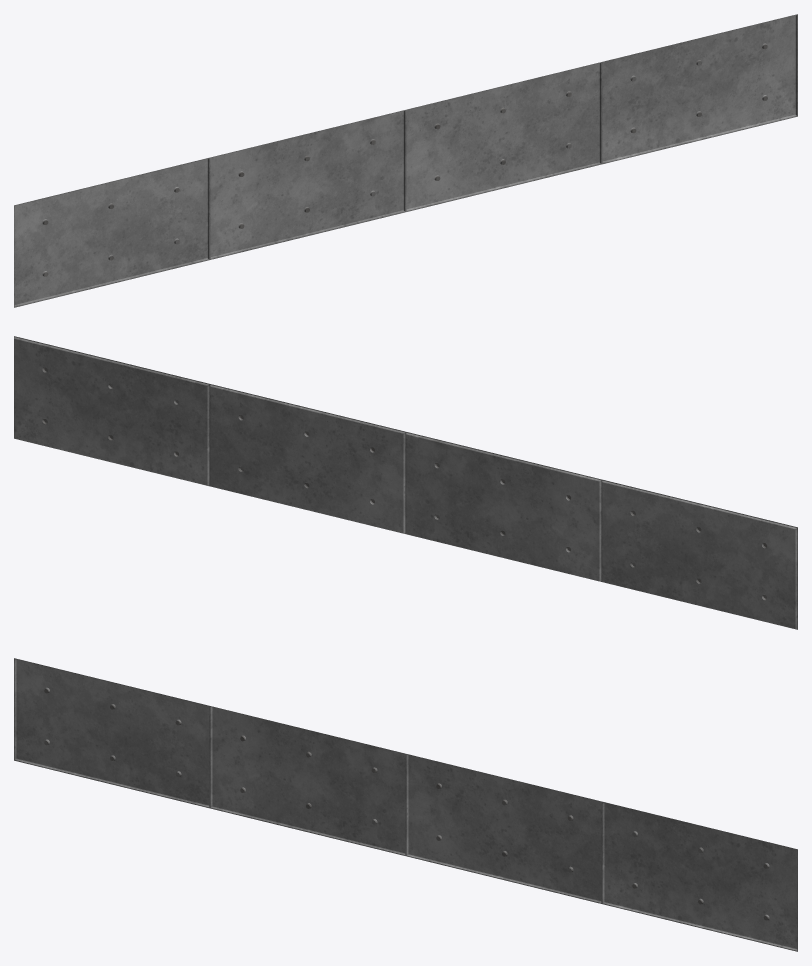
Rendered from SM_Wall_16.fbx.
3 views of the same model, one above another, from view 1: azimuth 30°, elevation 25°; view 2: azimuth 150°, elevation 25°; view 3: azimuth 330°, elevation 25° (orthographic).
Visible parts, largest first — view 1: SM_Wall_16; view 2: SM_Wall_16; view 3: SM_Wall_16.
Boxes of the visible parts, <box> form: SM_Wall_16: <box>14,14,797,307</box>; SM_Wall_16: <box>14,336,797,629</box>; SM_Wall_16: <box>14,658,797,951</box>.
Bounding box in the file's own units: 800 × 100 × 1.98.
